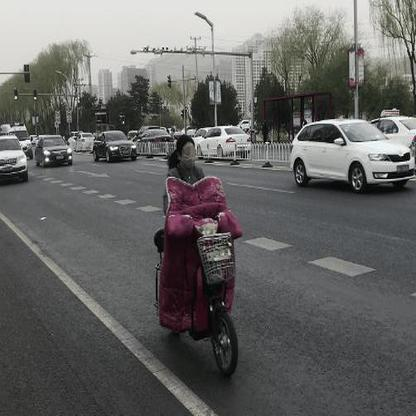target: (151, 135, 242, 380)
